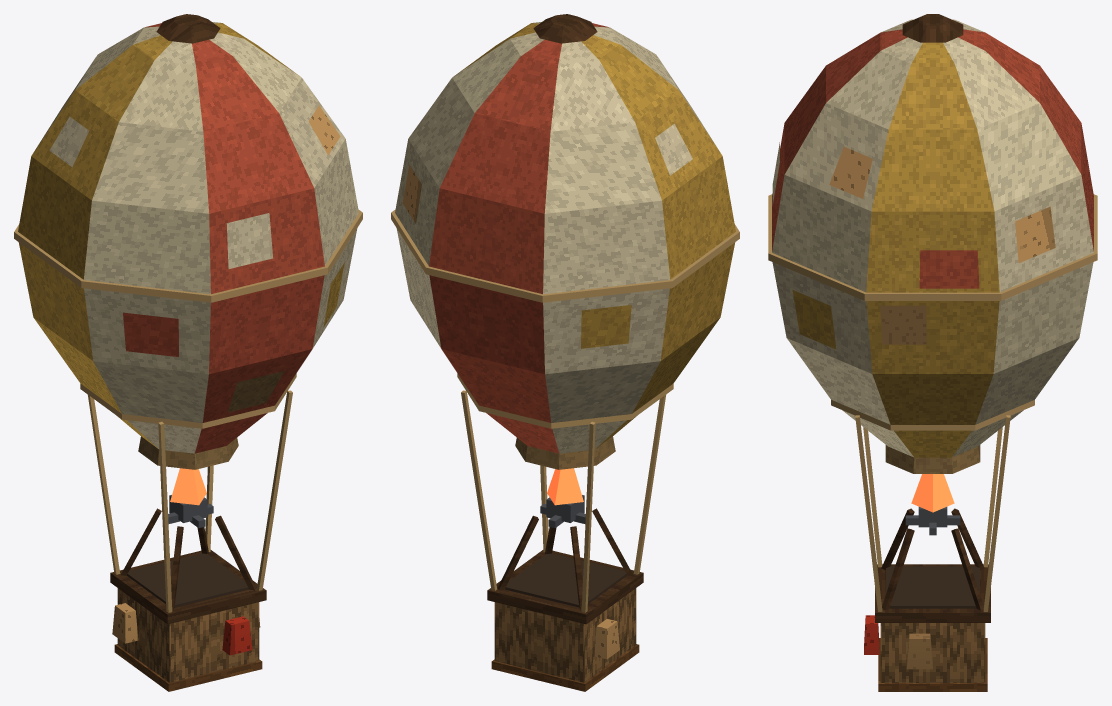
File: balloon.glb
3 renders of one model, left to right at view 1: azimuth 30°, elevation 25°; view 2: azimuth 150°, elevation 25°; view 3: azimuth 270°, elevation 25°, orthographic.
Visible parts, largest first — view 1: balloon, glow_burner; view 2: balloon, glow_burner; view 3: balloon, glow_burner.
Part boxes in pixels (<box>): balloon: <box>14,14,362,691</box>; glow_burner: <box>170,468,206,505</box>; balloon: <box>391,14,739,691</box>; glow_burner: <box>547,468,583,505</box>; balloon: <box>768,14,1097,691</box>; glow_burner: <box>911,474,954,512</box>.
Bounding box in the file's own units: 3.01 × 6.55 × 3.01.
15 materials, 9 textured.
